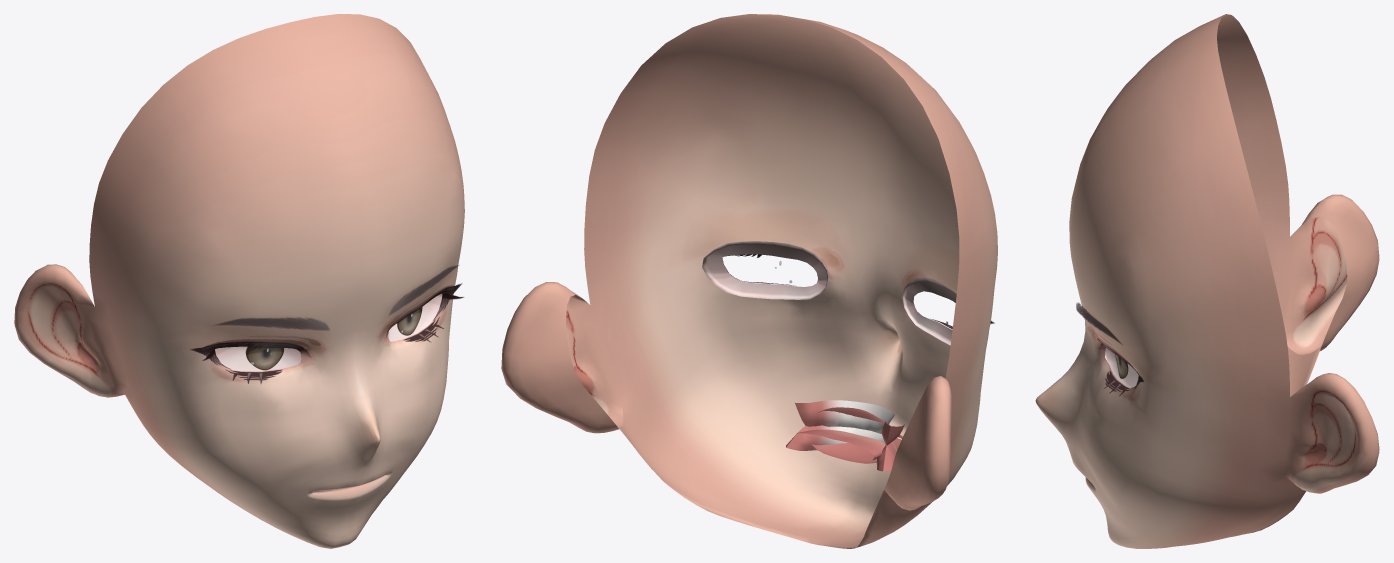
The picture shows the model from 3 angles, left to right: view 1: azimuth 30°, elevation 25°; view 2: azimuth 150°, elevation 25°; view 3: azimuth 270°, elevation 25°; orthographic projection. The views are drawn at different scales.
Parts seen in each view (by area): view 1: part; view 2: part; view 3: part.
Part boxes in pixels (x1,y1,x2,y2): part: (14, 14, 464, 548); part: (501, 14, 997, 548); part: (1035, 14, 1379, 548).
Bounding box in the file's own units: 0.1849 × 0.2152 × 0.1328.
8 materials, 8 textured.
